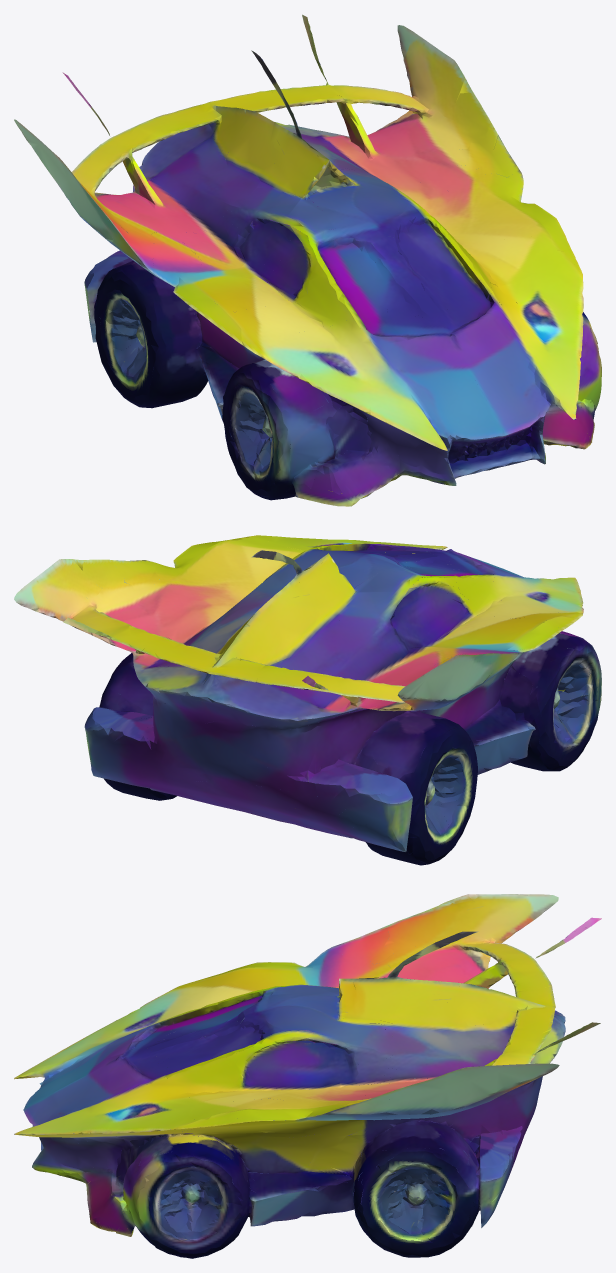
The model's file is timeattack3.glb.
3 views of the same model, one above another, from view 1: azimuth 30°, elevation 25°; view 2: azimuth 150°, elevation 25°; view 3: azimuth 270°, elevation 25° (orthographic). The views are drawn at different scales.
Parts seen in each view (by area): view 1: panel_bumper_f, panel_trunk, panel_roof, panel_hood, susp_front_L, body, susp_rear_L, panel_door_R, wheel_rear_L, panel_door_L, susp_front_R, wheel_front_R (+1 smaller); view 2: panel_trunk, panel_bumper_r, susp_rear_L, panel_roof, susp_front_L, body, panel_bumper_f, panel_hood, panel_door_R, susp_rear_R, panel_door_L, wheel_rear_R (+2 smaller); view 3: panel_trunk, panel_bumper_f, susp_front_R, panel_roof, susp_rear_R, panel_hood, body, wheel_rear_R, panel_door_R, panel_bumper_r, panel_door_L, wheel_front_R.
Part boxes in pixels (x1=…): panel_bumper_f: x1=246, y1=262, x2=590, y2=506; panel_trunk: x1=14, y1=14, x2=495, y2=348; panel_roof: x1=108, y1=126, x2=523, y2=280; panel_hood: x1=210, y1=227, x2=579, y2=421; susp_front_L: x1=197, y1=346, x2=395, y2=506; body: x1=175, y1=175, x2=505, y2=416; susp_rear_L: x1=84, y1=250, x2=218, y2=408; panel_door_R: x1=424, y1=160, x2=563, y2=248; wheel_rear_L: x1=142, y1=304, x2=210, y2=406; panel_door_L: x1=111, y1=232, x2=254, y2=414; susp_front_R: x1=516, y1=302, x2=601, y2=449; wheel_front_R: x1=548, y1=339, x2=601, y2=422; panel_trunk: x1=14, y1=550, x2=492, y2=796; panel_bumper_r: x1=85, y1=666, x2=401, y2=850; susp_rear_L: x1=309, y1=711, x2=480, y2=865; panel_roof: x1=110, y1=546, x2=521, y2=671; susp_front_L: x1=464, y1=591, x2=601, y2=774; body: x1=178, y1=558, x2=512, y2=794; panel_bumper_f: x1=249, y1=535, x2=583, y2=691; panel_hood: x1=209, y1=536, x2=579, y2=711; panel_door_R: x1=124, y1=541, x2=262, y2=609; susp_rear_R: x1=84, y1=656, x2=222, y2=800; panel_door_L: x1=425, y1=617, x2=565, y2=683; wheel_rear_R: x1=99, y1=653, x2=153, y2=715; panel_trunk: x1=373, y1=894, x2=601, y2=1203; panel_bumper_f: x1=14, y1=983, x2=194, y2=1228; susp_front_R: x1=77, y1=1131, x2=354, y2=1258; panel_roof: x1=230, y1=925, x2=399, y2=1114; susp_rear_R: x1=308, y1=1123, x2=519, y2=1257; panel_hood: x1=147, y1=968, x2=242, y2=1189; body: x1=234, y1=984, x2=401, y2=1212; wheel_rear_R: x1=361, y1=1119, x2=475, y2=1197; panel_door_R: x1=229, y1=1092, x2=397, y2=1138; panel_bumper_r: x1=432, y1=1028, x2=542, y2=1215; panel_door_L: x1=231, y1=950, x2=391, y2=1020; wheel_front_R: x1=111, y1=1145, x2=151, y2=1242.
Bounding box in the file's own units: 2.78 × 1.96 × 4.
Materials: 1 (1 with a texture image).
